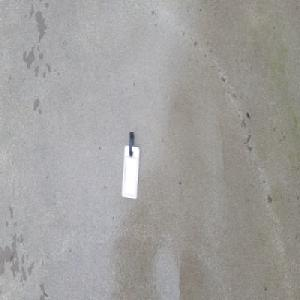LuggageTag: (120, 130, 141, 200)
